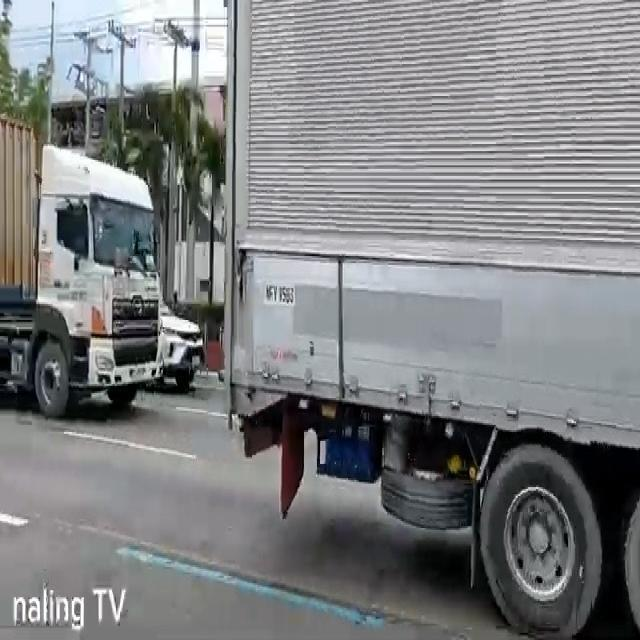car: (156, 284, 204, 394)
truck: (220, 0, 640, 640), (0, 111, 159, 422)
